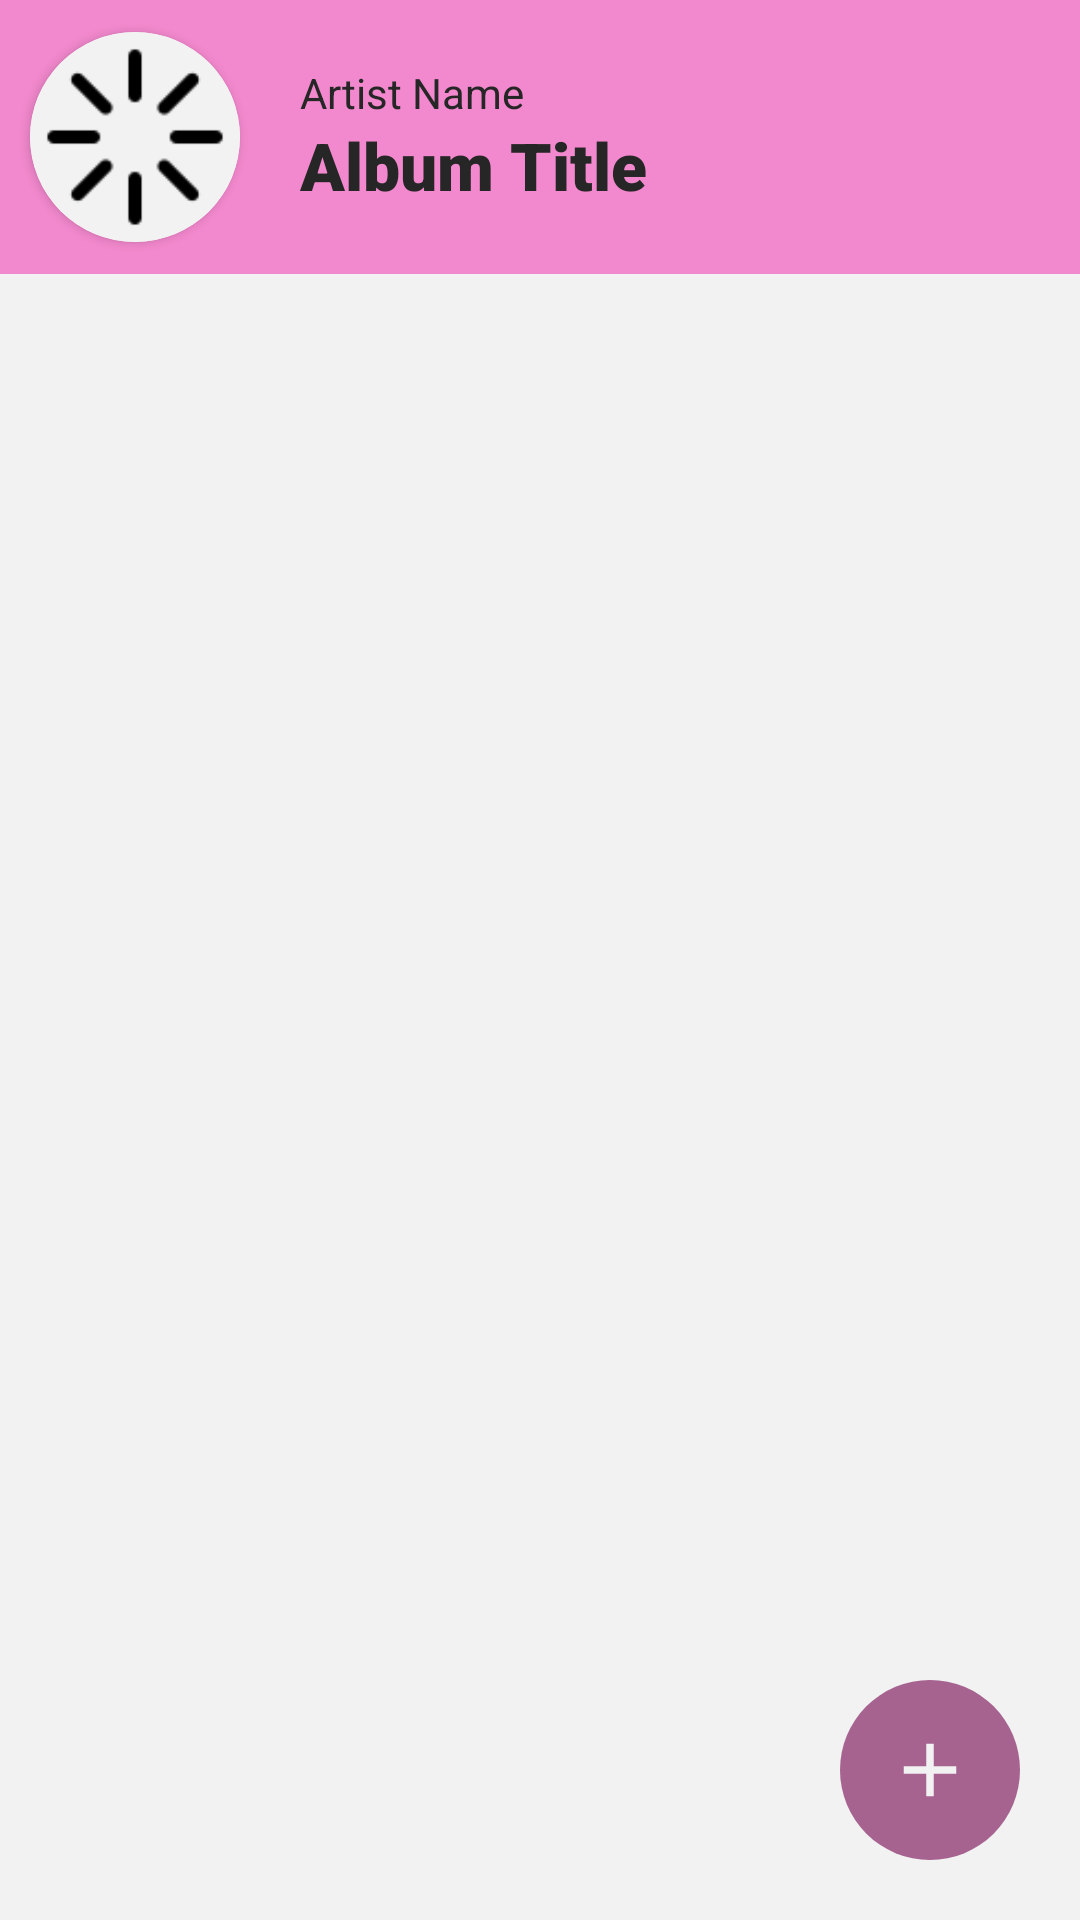

Screen size 1080px×1920px. Icon name, then its box in pixels as [x1,y1,x2,y2]:
add: [840,1680,1020,1860]
loading: [30,32,240,242]
